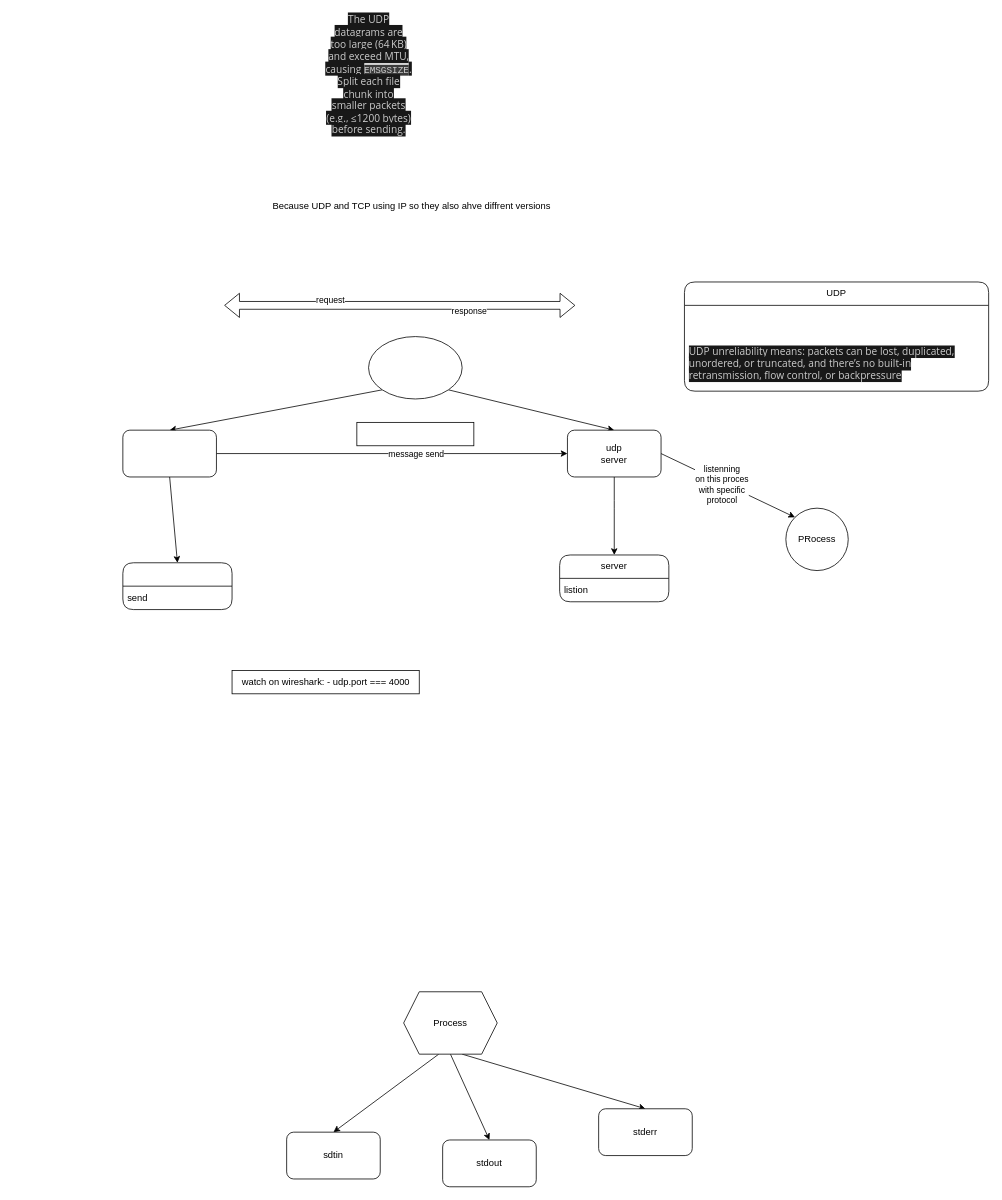
Some shapes in this 1002 by 1200 pixel diagram are drawn without their labels. Here are the shapes that lost their labels. From the top down, the box of each, then its label:
(368, 336, 462, 399): udp commutination
(122, 429, 216, 477): udp client
(356, 422, 474, 446): one way communication
(122, 562, 232, 610): client
